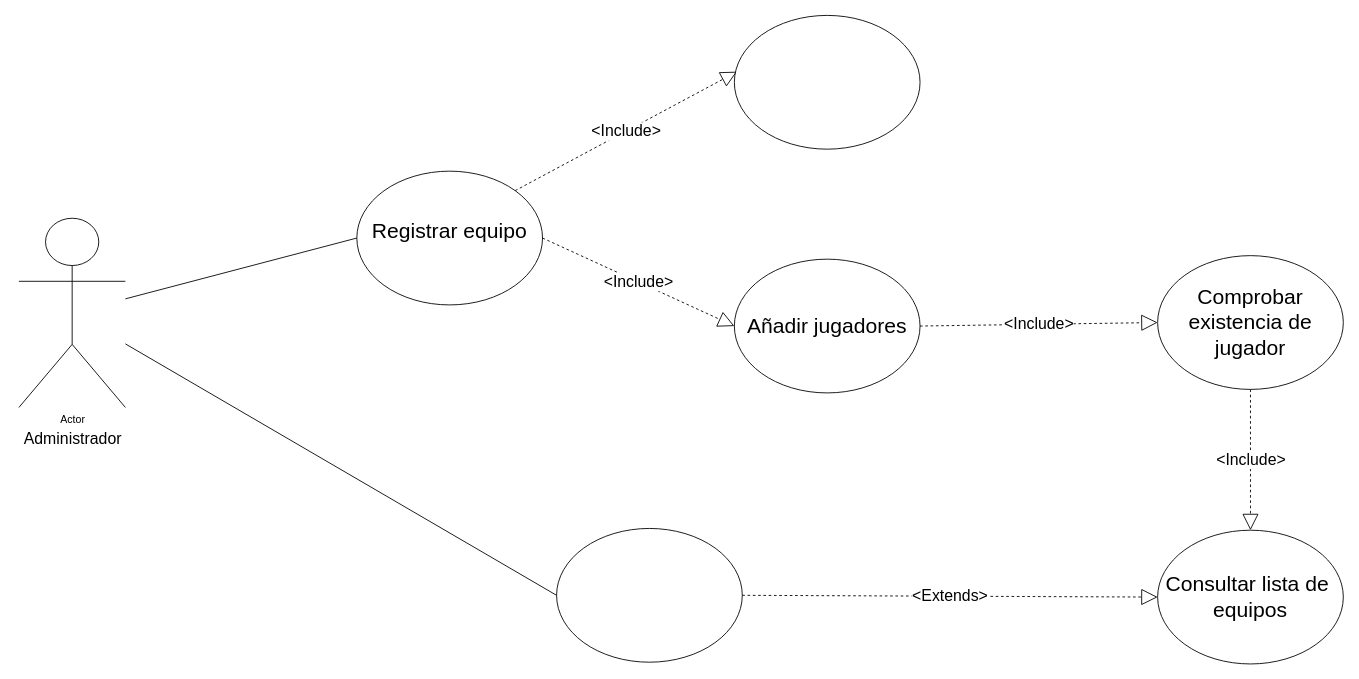
This 1359x679 diagram has some shape labels left out. Here are the shapes that lost their labels. From the top down, the centre of each, then its label:
At (826,82): "Comprobar existencia de equipo".
At (649,595): "Consultar lista de jugadores".
